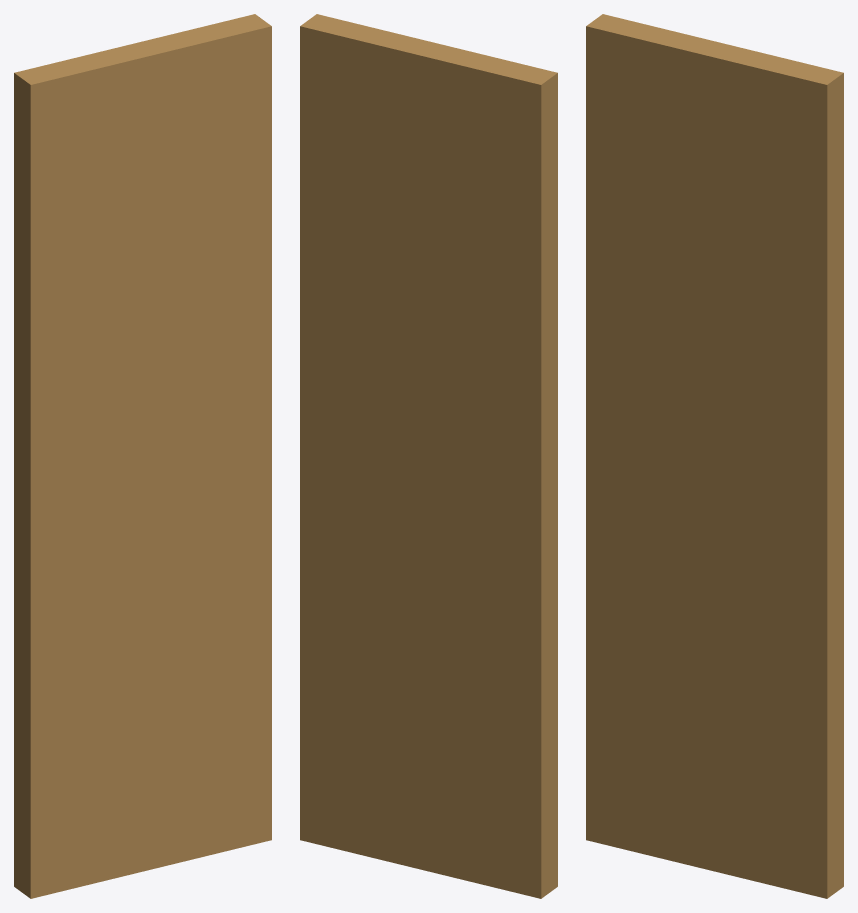
3 views of the same model, side by side, from view 1: azimuth 30°, elevation 25°; view 2: azimuth 150°, elevation 25°; view 3: azimuth 330°, elevation 25° (orthographic).
Parts seen in each view (by area): view 1: FF-W137; view 2: FF-W137; view 3: FF-W137.
Boxes of the visible parts, x1,y1,x2,y2 form: FF-W137: [14, 14, 271, 898]; FF-W137: [300, 14, 557, 898]; FF-W137: [586, 14, 843, 898].
Size of the model in its own units: 0.75 by 2.42 by 0.09.
